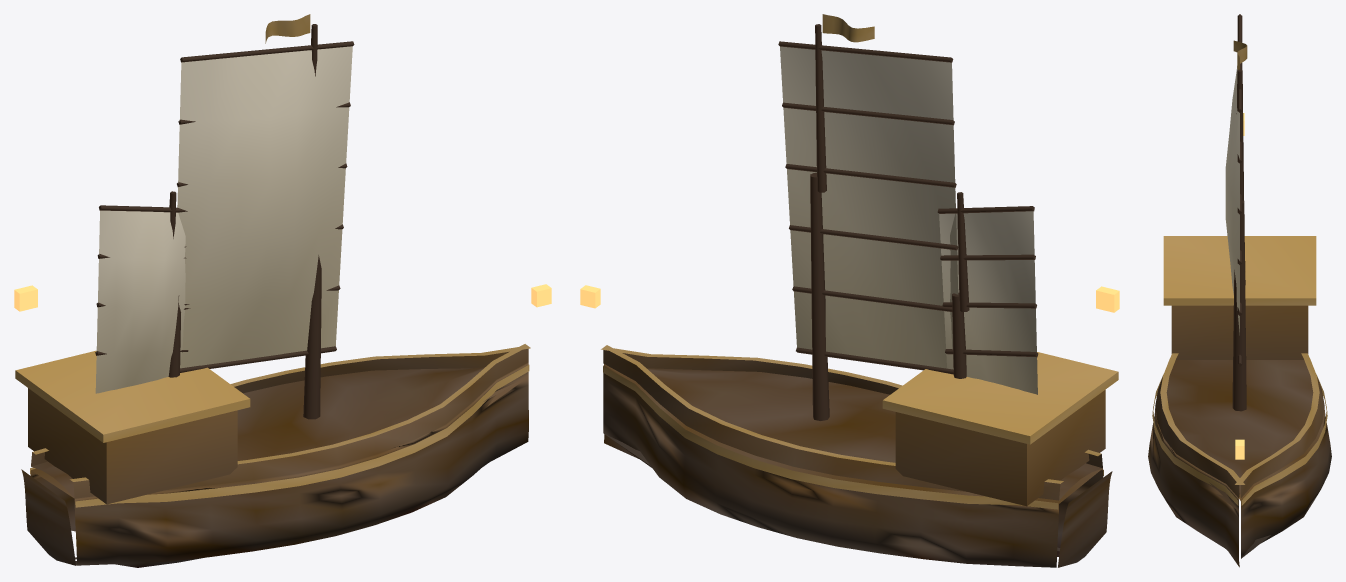
Rendered from garden-hero-junk.glb.
The picture shows the model from 3 angles, left to right: view 1: azimuth 30°, elevation 25°; view 2: azimuth 150°, elevation 25°; view 3: azimuth 270°, elevation 25°; orthographic projection. The views are drawn at different scales.
Parts seen in each view (by area): view 1: wood-hull, sail-hull, trim-hull, spar-hull, glow-hull; view 2: wood-hull, sail-hull, trim-hull, spar-hull, glow-hull; view 3: wood-hull, trim-hull, spar-hull, sail-hull, glow-hull.
Part boxes in pixels (<box>): wood-hull: <box>21,14,530,567</box>; sail-hull: <box>95,46,352,393</box>; trim-hull: <box>15,350,529,507</box>; spar-hull: <box>95,24,354,419</box>; glow-hull: <box>14,284,551,311</box>; wood-hull: <box>601,14,1112,567</box>; sail-hull: <box>780,46,1037,394</box>; trim-hull: <box>603,352,1118,509</box>; spar-hull: <box>778,24,1038,420</box>; glow-hull: <box>580,285,1119,312</box>; wood-hull: <box>1148,40,1331,567</box>; trim-hull: <box>1152,236,1327,505</box>; spar-hull: <box>1232,14,1246,411</box>; sail-hull: <box>1225,66,1239,335</box>; glow-hull: <box>1235,113,1244,459</box>.
Size of the model in its own units: 9.96 by 9.17 by 3.43.
